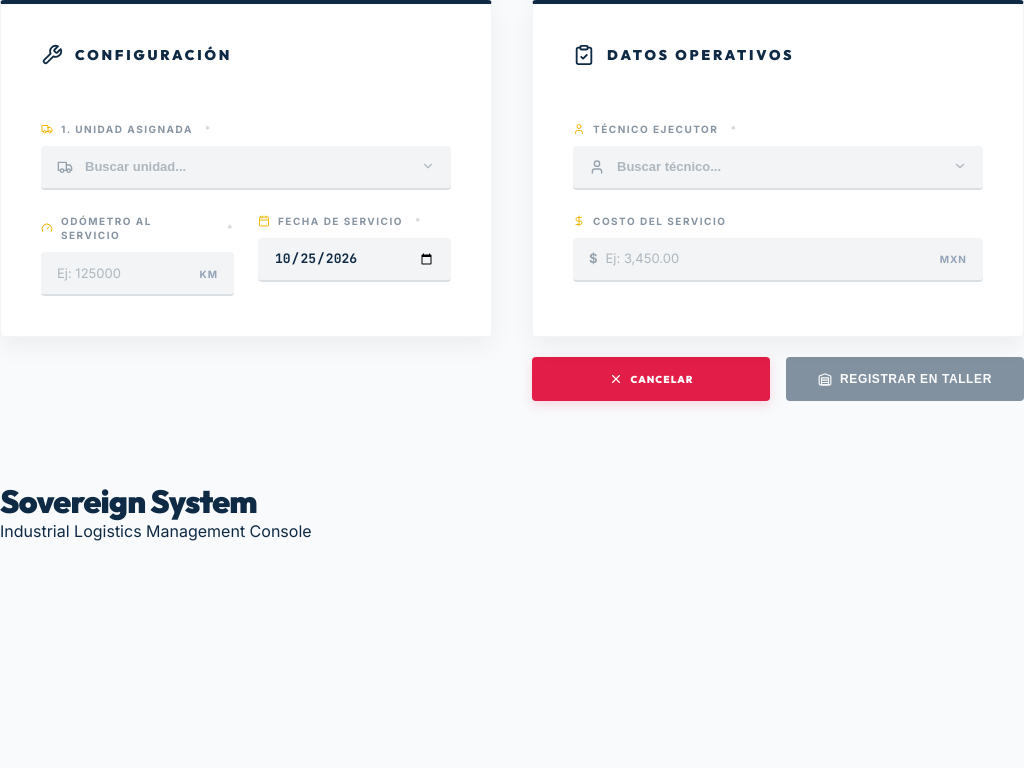
Test: MaintenanceRegistrationForm › Should NOT render CHECKLIST OPERATIVO or INSPECCIÓN DE ENTRADA in any mode
Click the button "Buscar unidad..." at (136, 167), box [41,146,451,190]
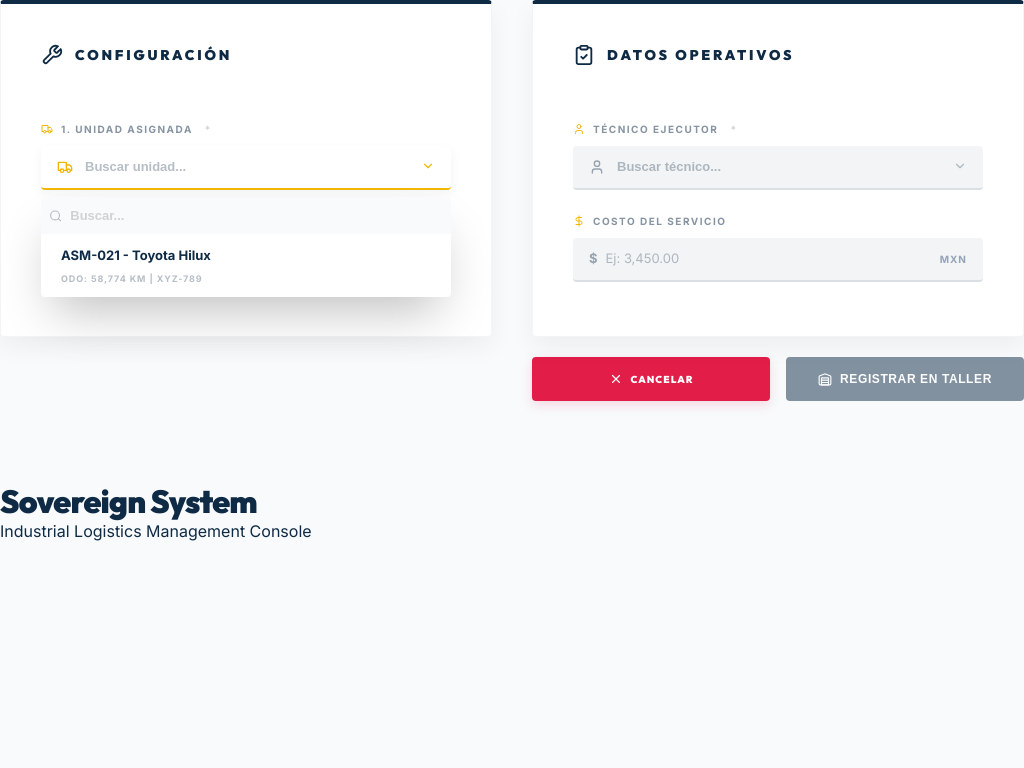
Click the text "ASM-021 - Toyota Hilux" at (136, 255), box [61,246,211,265]
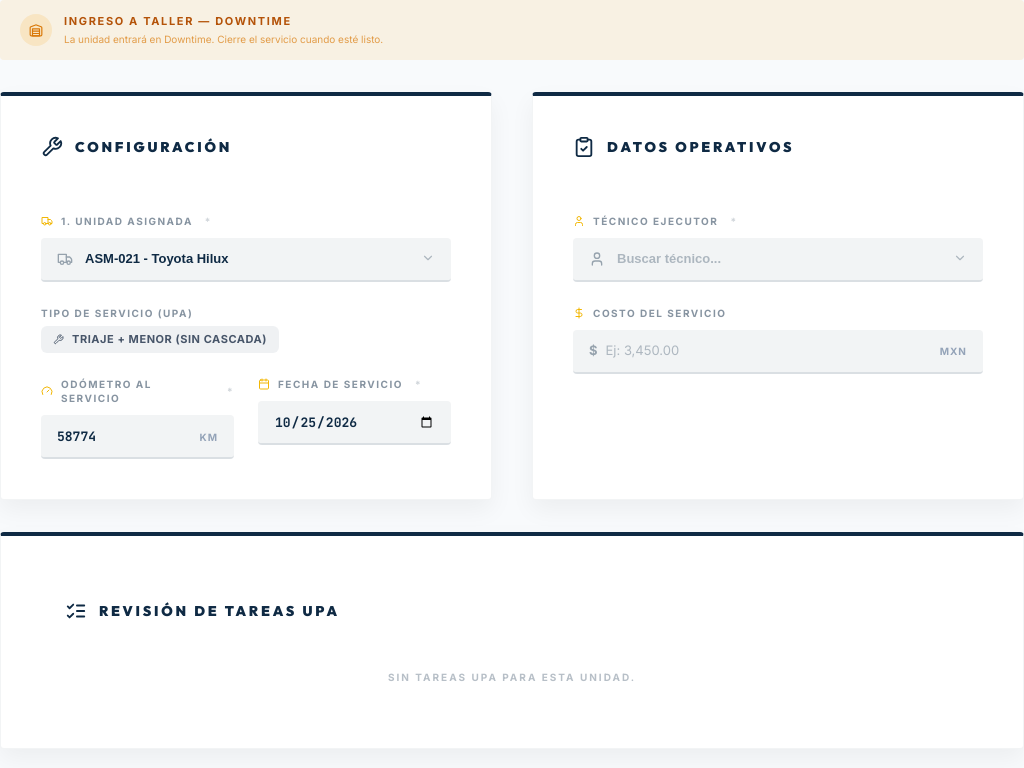
Now the heading "REVISIÓN DE TAREAS UPA" is shown, box [99,601,340,622]
